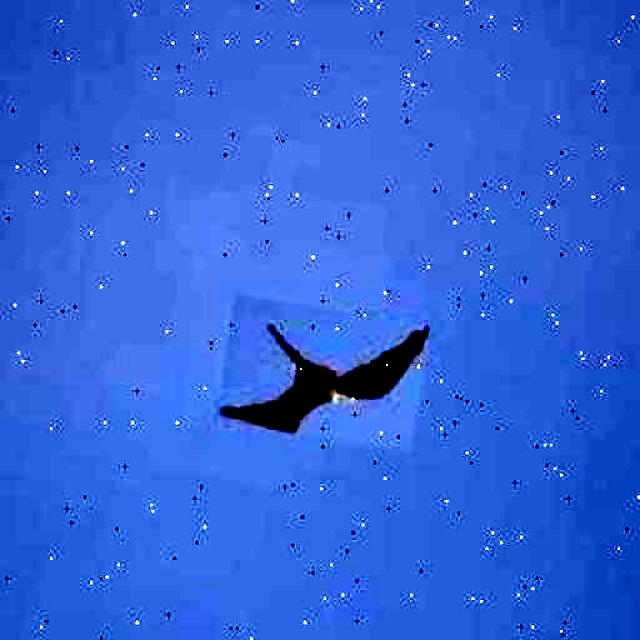airplane: (215, 294, 431, 452)
